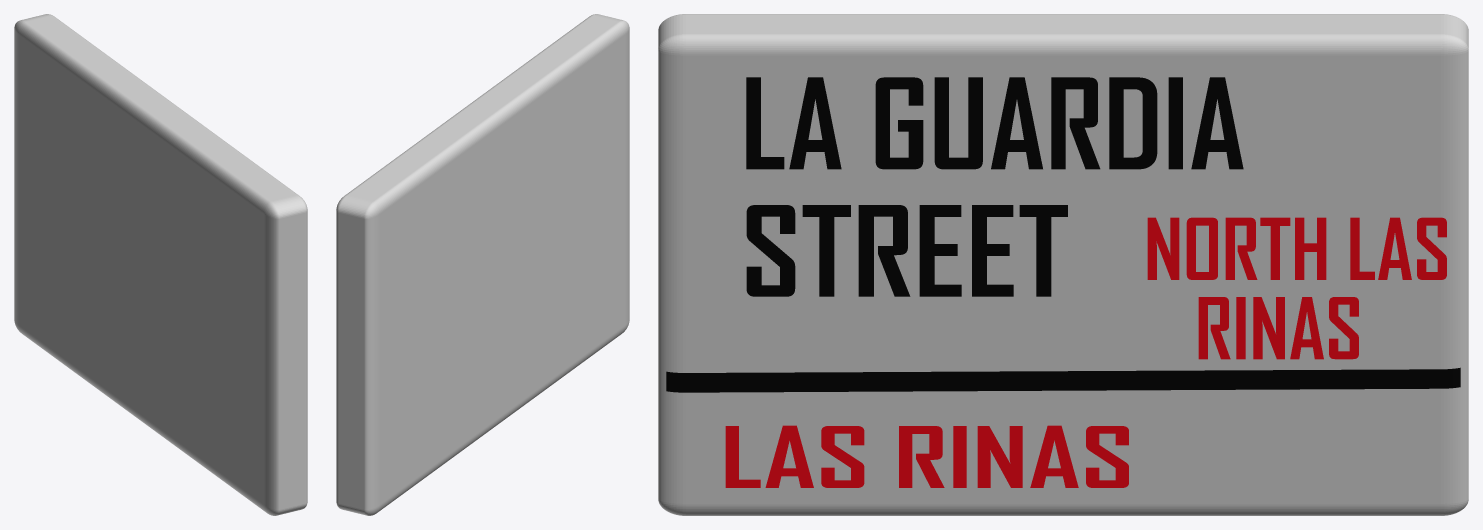
The model's file is uk_styled_street_sign_8.fbx.
3 views of the same model, side by side, from view 1: azimuth 30°, elevation 25°; view 2: azimuth 150°, elevation 25°; view 3: azimuth 270°, elevation 25° (orthographic). The views are drawn at different scales.
Parts seen in each view (by area): view 1: Cube; view 2: Cube; view 3: Cube, Text, Text.001, Text.002, Text.003, Text.004.
Part boxes in pixels (x1,y1,x2,y2): Cube: (14, 14, 307, 515); Cube: (336, 14, 629, 515); Cube: (658, 14, 1468, 515); Text: (746, 77, 1243, 169); Text.001: (746, 205, 1067, 296); Text.002: (725, 425, 1128, 487); Text.003: (1147, 217, 1446, 279); Text.004: (1198, 297, 1358, 359).
Size of the model in its own units: 1.63 by 11.91 by 18.18.
